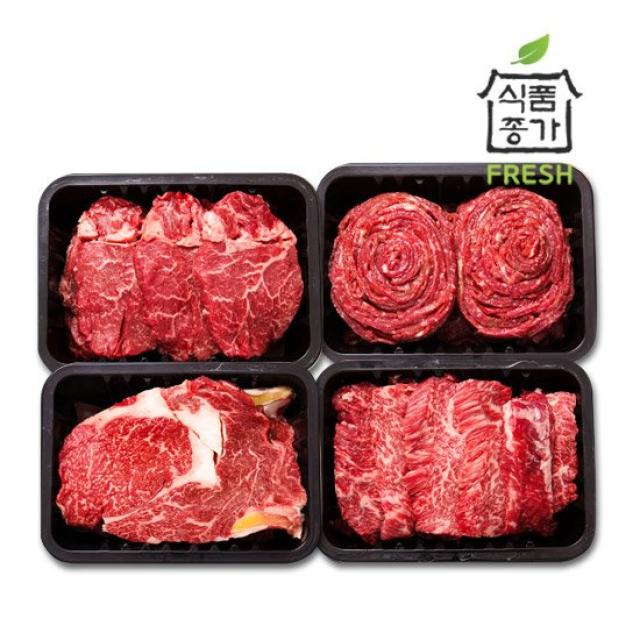beef: (84, 209, 284, 337), (104, 398, 286, 518), (347, 400, 533, 506), (377, 237, 527, 321)
